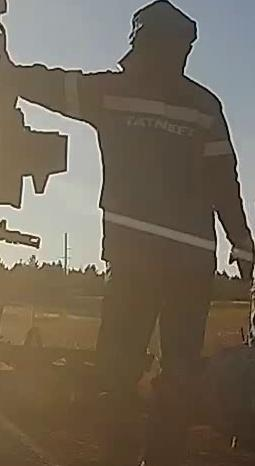gloves: (225, 233, 255, 286)
vest: (64, 66, 219, 287)
